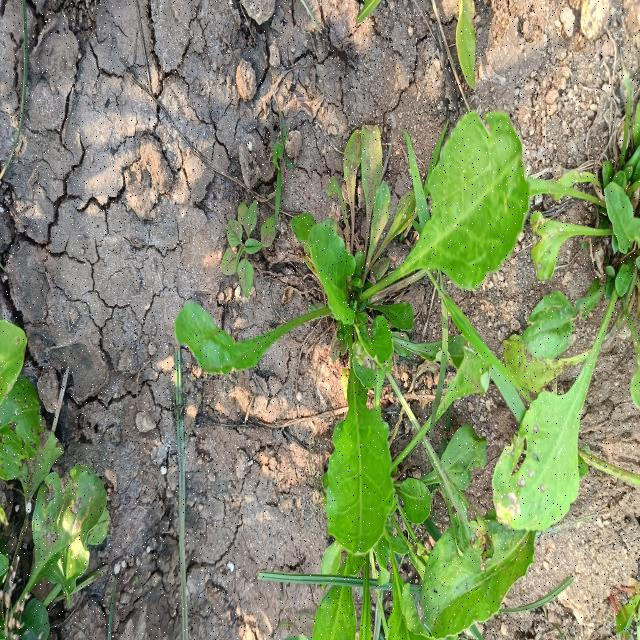half-leaf: (307, 550, 368, 640)
leaves: (478, 237, 638, 548), (367, 107, 551, 335), (415, 457, 578, 640), (168, 263, 365, 392), (312, 317, 398, 586), (1, 453, 124, 640), (509, 258, 617, 368), (276, 214, 381, 325), (343, 304, 399, 383), (394, 469, 437, 544), (373, 298, 424, 344)
